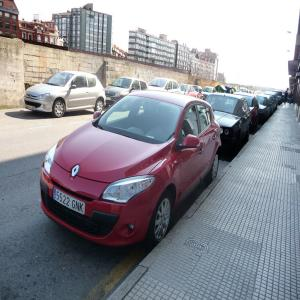Vehicle-registration-plate: (54, 189, 86, 216)
